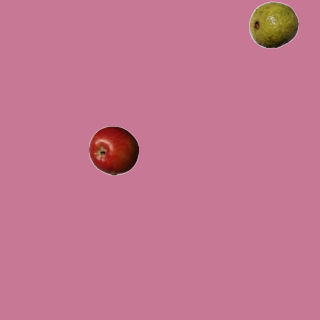Apple Braeburn: (88, 125, 138, 175)
Guava: (248, 0, 298, 49)
